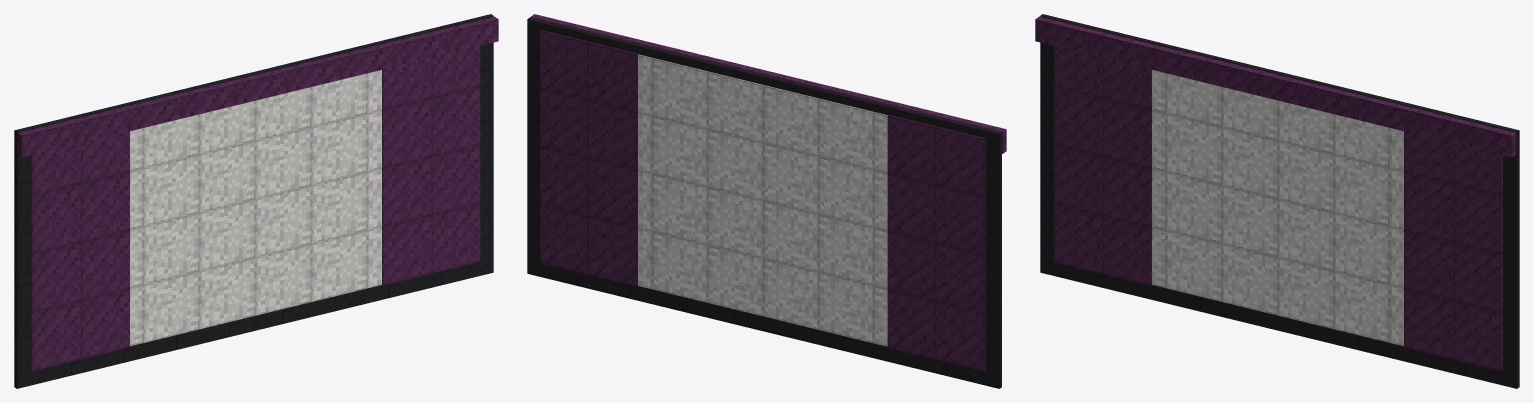
File: cinemaScreen_1.glb
3 renders of one model, left to right at view 1: azimuth 30°, elevation 25°; view 2: azimuth 150°, elevation 25°; view 3: azimuth 330°, elevation 25°, orthographic.
Parts seen in each view (by area): view 1: cinemaScreen_1; view 2: cinemaScreen_1; view 3: cinemaScreen_1.
Part boxes in pixels (bbox=[...]): cinemaScreen_1: bbox=[14, 14, 498, 388]; cinemaScreen_1: bbox=[527, 14, 1006, 388]; cinemaScreen_1: bbox=[1035, 14, 1519, 388].
Size of the model in its own units: 4.25 by 2.19 by 0.125.
1 material, 1 textured.
